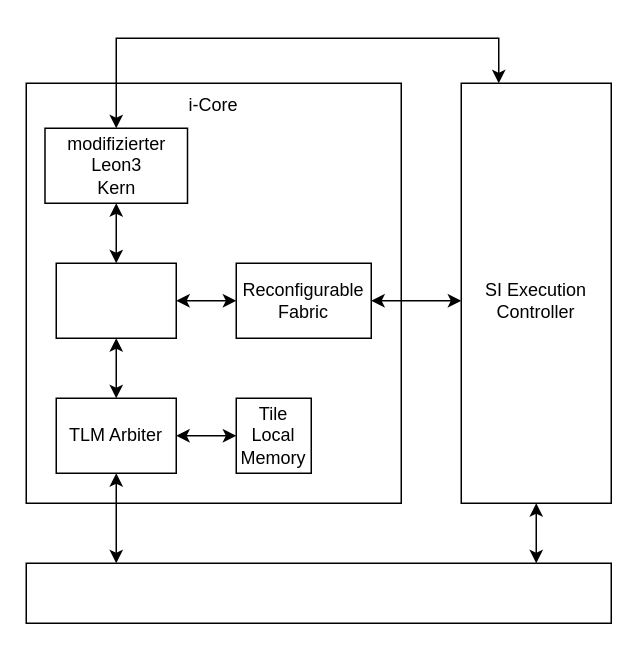
The diagram is 638 pixels wide and 650 high, and some of its shapes have lost their labels. The shapes that lost their labels are listed below. From the top down, each one's centre as x and y in pixels, then its label:
point (115, 300): Memory Controller
point (318, 592): Advanced High Performance Bus (AHB)
